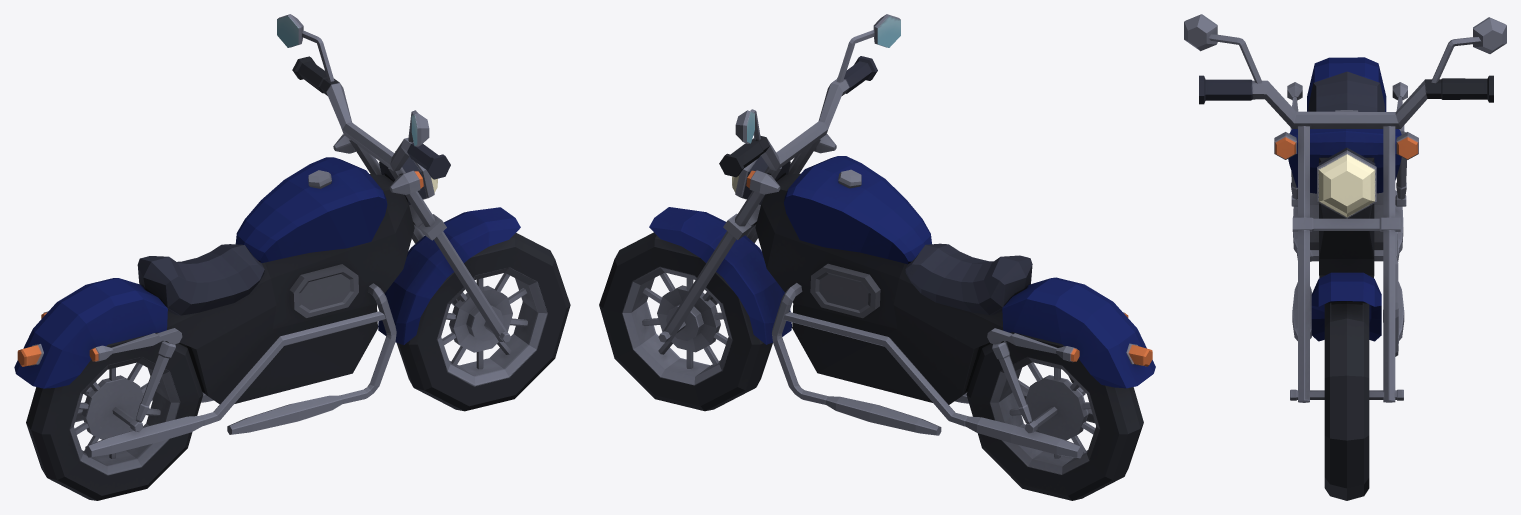
The model's file is Motorcycle.glb.
3 views of the same model, side by side, from view 1: azimuth 30°, elevation 25°; view 2: azimuth 150°, elevation 25°; view 3: azimuth 270°, elevation 25° (orthographic). The views are drawn at different scales.
Parts seen in each view (by area): view 1: Motorcycle_mesh; view 2: Motorcycle_mesh; view 3: Motorcycle_mesh.
Part boxes in pixels (x1,y1,x2,y2): Motorcycle_mesh: (14, 14, 570, 500); Motorcycle_mesh: (599, 14, 1155, 500); Motorcycle_mesh: (1184, 14, 1506, 500).
Bounding box in the file's own units: 14.51 × 9.44 × 6.86.
Materials: 1 (1 with a texture image).
